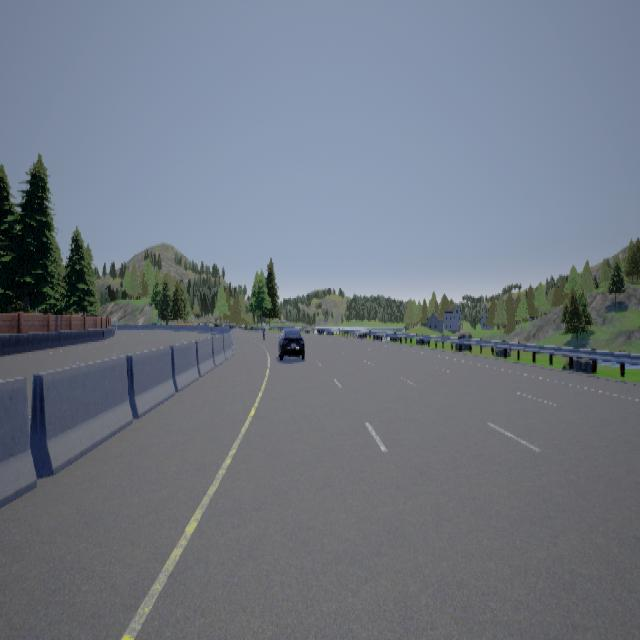traffic_sign: (323, 315, 327, 322)
vehicle: (277, 326, 304, 358)
